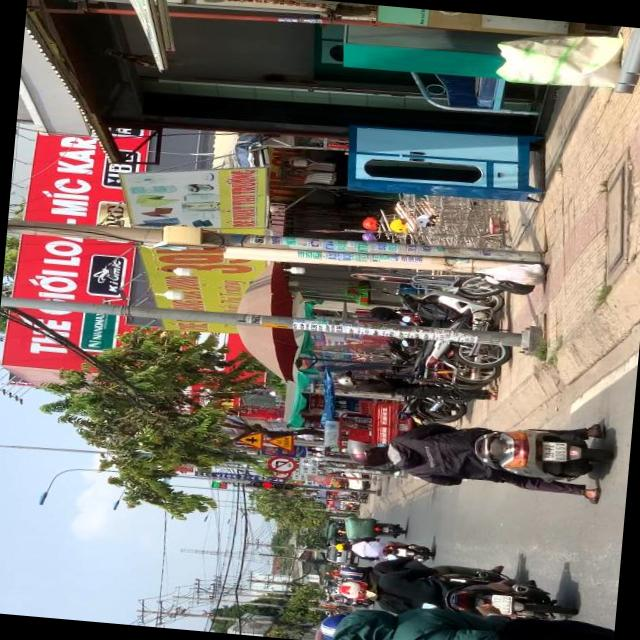W-207a: (236, 431, 263, 448)
